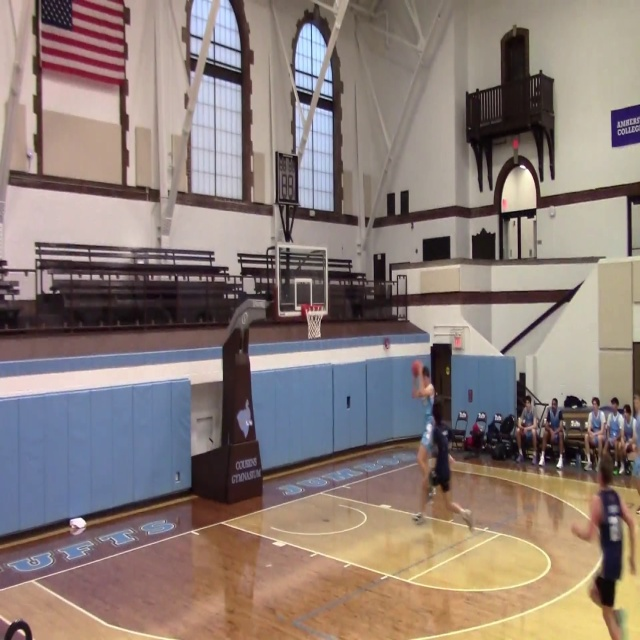Basketball: (69, 517, 86, 535), (411, 360, 422, 375), (587, 433, 598, 447), (625, 442, 634, 453)
